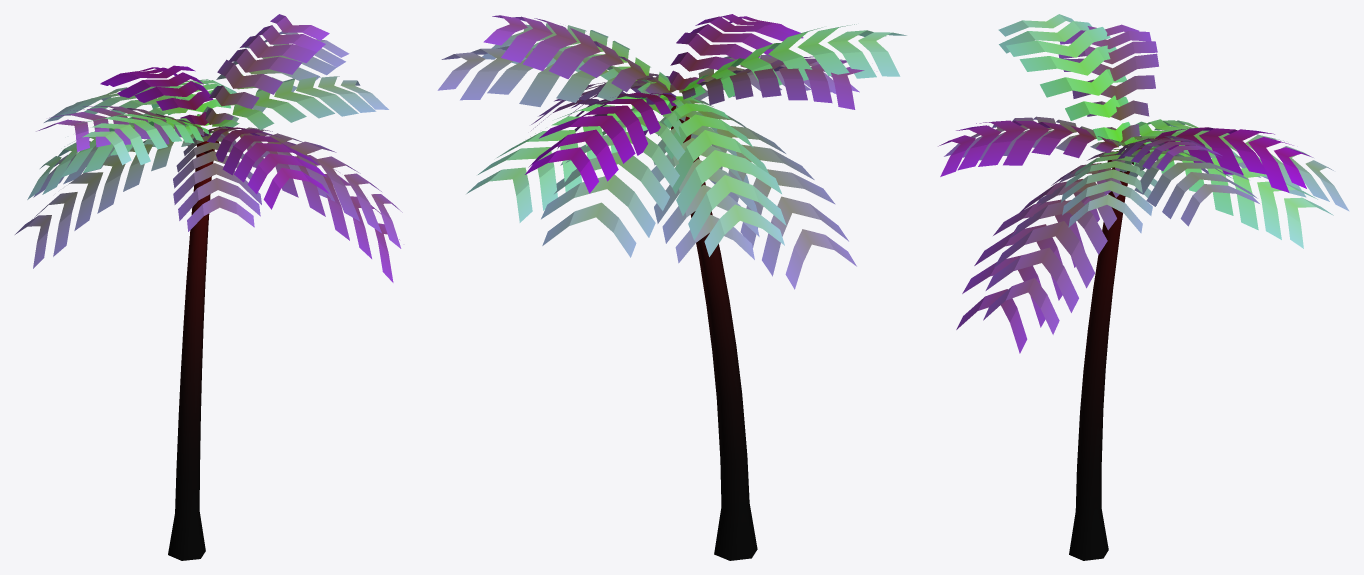
Rendered from Palm1_LOD1.fbx.
The picture shows the model from 3 angles, left to right: view 1: azimuth 30°, elevation 25°; view 2: azimuth 150°, elevation 25°; view 3: azimuth 270°, elevation 25°; orthographic projection. The views are drawn at different scales.
Visible parts, largest first — view 1: Palm1_Lite; view 2: Palm1_Lite; view 3: Palm1_Lite.
Boxes of the visible parts, x1,y1,x2,y2 form: Palm1_Lite: [15, 14, 402, 560]; Palm1_Lite: [437, 14, 906, 560]; Palm1_Lite: [938, 14, 1349, 560].
Bounding box in the file's own units: 8.73 × 11.07 × 8.58.
